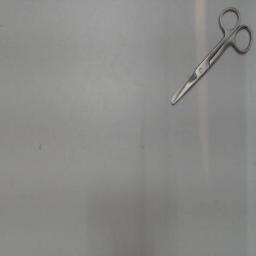Dressing Scissors: (163, 3, 255, 115)
